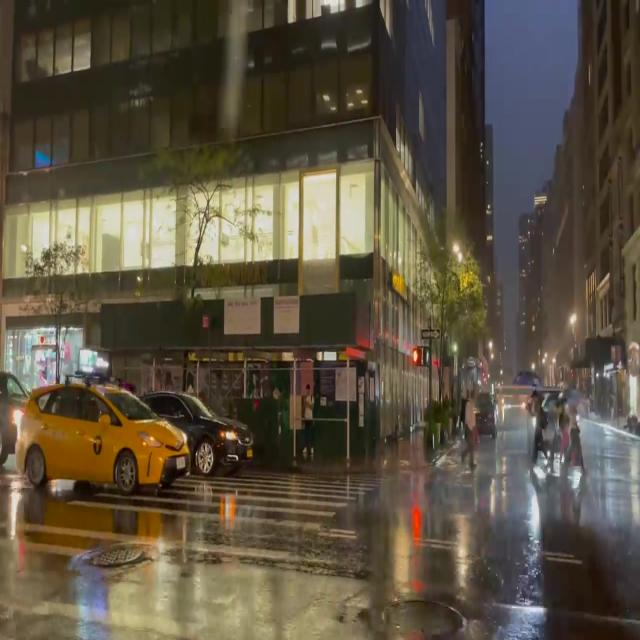Car: (12, 381, 190, 489), (169, 387, 248, 478)
